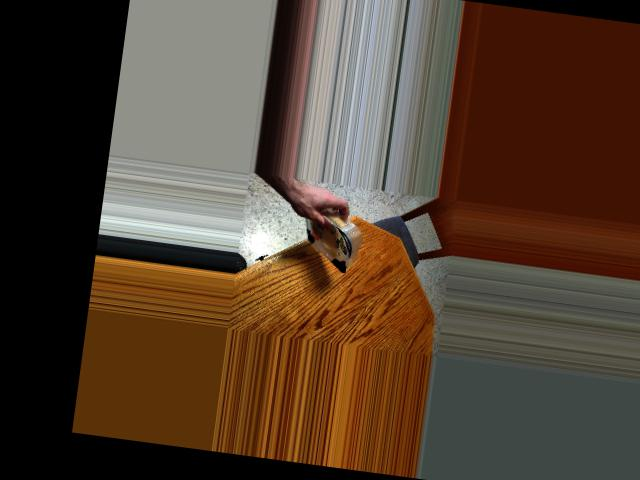cheese: (281, 206, 371, 272)
